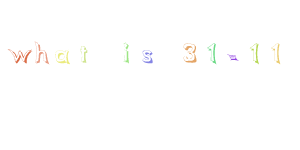-: (222, 46, 244, 71)
1: (263, 32, 294, 71), (242, 32, 266, 71), (201, 35, 224, 71)
3: (175, 35, 201, 71)
a: (52, 43, 74, 70)
h: (33, 35, 53, 70)
i: (116, 36, 137, 67)
s: (136, 44, 159, 69)
t: (73, 36, 92, 69)
w: (3, 38, 33, 71)
